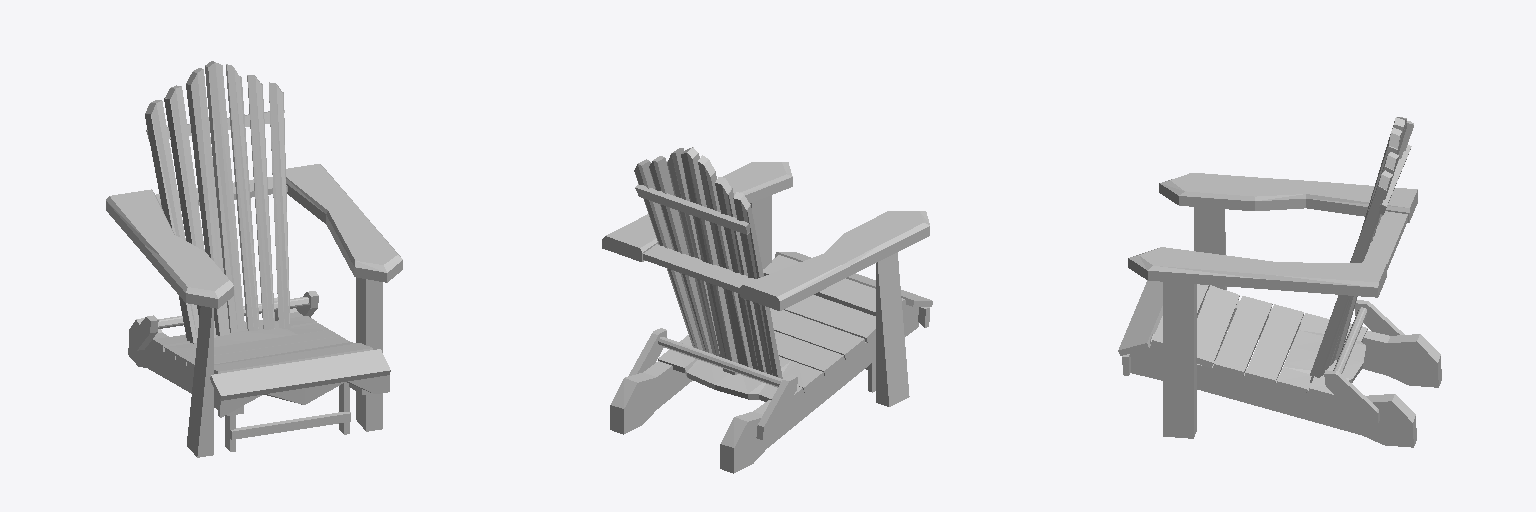
File: chair.obj
The picture shows the model from 3 angles: view 1: azimuth 30°, elevation 25°; view 2: azimuth 150°, elevation 25°; view 3: azimuth 270°, elevation 25°; orthographic projection.
Parts seen in each view (by area): view 1: chair1 pCube18, chair1 pCube20, chair1 pCube21, chair1 pCube22, chair1 pCube5, chair1 pCube19, chair1 pCube1, chair1 pCube2, chair1 pCube4, chair1 pCube17, chair1 pCube6, chair1 pCube11 (+6 smaller); view 2: chair1 pCube18, chair1 pCube4, chair1 pCube21, chair1 pCube20, chair1 pCube22, chair1 pCube1, pCube3 chair1, chair1 pCube19, chair1 pCube24, chair1 pCube8, chair1 pCube7, chair1 pCube16 (+8 smaller); view 3: chair1 pCube18, pCube3 chair1, chair1 pCube2, chair1 pCube4, chair1 pCube8, chair1 pCube12, chair1 pCube22, chair1 pCube13, chair1 pCube7, chair1 pCube25, chair1 pCube5, chair1 pCube1 (+5 smaller).
Boxes of the visible parts, x1=… form: chair1 pCube18: x1=106, y1=164, x2=402, y2=308; chair1 pCube20: x1=186, y1=64, x2=259, y2=335; chair1 pCube21: x1=164, y1=75, x2=274, y2=337; chair1 pCube22: x1=145, y1=82, x2=290, y2=343; chair1 pCube5: x1=210, y1=349, x2=390, y2=400; chair1 pCube19: x1=205, y1=61, x2=244, y2=332; chair1 pCube1: x1=187, y1=306, x2=213, y2=457; chair1 pCube2: x1=356, y1=277, x2=382, y2=431; chair1 pCube4: x1=128, y1=318, x2=243, y2=415; chair1 pCube17: x1=218, y1=375, x2=389, y2=417; chair1 pCube6: x1=214, y1=343, x2=372, y2=373; chair1 pCube11: x1=230, y1=412, x2=350, y2=439; chair1 pCube18: x1=602, y1=162, x2=929, y2=310; chair1 pCube4: x1=720, y1=300, x2=918, y2=473; chair1 pCube21: x1=649, y1=156, x2=766, y2=372; chair1 pCube20: x1=666, y1=148, x2=752, y2=367; chair1 pCube22: x1=634, y1=159, x2=782, y2=378; chair1 pCube1: x1=876, y1=252, x2=909, y2=406; pCube3 chair1: x1=610, y1=361, x2=692, y2=434; chair1 pCube19: x1=681, y1=147, x2=737, y2=374; chair1 pCube24: x1=658, y1=349, x2=803, y2=405; chair1 pCube8: x1=770, y1=308, x2=864, y2=359; chair1 pCube7: x1=784, y1=295, x2=875, y2=342; chair1 pCube16: x1=643, y1=244, x2=755, y2=293; chair1 pCube18: x1=1128, y1=173, x2=1417, y2=297; pCube3 chair1: x1=1130, y1=334, x2=1416, y2=447; chair1 pCube2: x1=1163, y1=282, x2=1196, y2=438; chair1 pCube4: x1=1206, y1=291, x2=1441, y2=387; chair1 pCube8: x1=1213, y1=296, x2=1272, y2=377; chair1 pCube12: x1=1244, y1=304, x2=1303, y2=385; chair1 pCube22: x1=1310, y1=123, x2=1413, y2=382; chair1 pCube13: x1=1276, y1=313, x2=1329, y2=394; chair1 pCube7: x1=1196, y1=285, x2=1239, y2=368; chair1 pCube25: x1=1324, y1=300, x2=1404, y2=423; chair1 pCube5: x1=1118, y1=280, x2=1162, y2=355; chair1 pCube1: x1=1194, y1=207, x2=1226, y2=359.
Bounding box in the file's own units: 3.02 × 3.65 × 3.64.